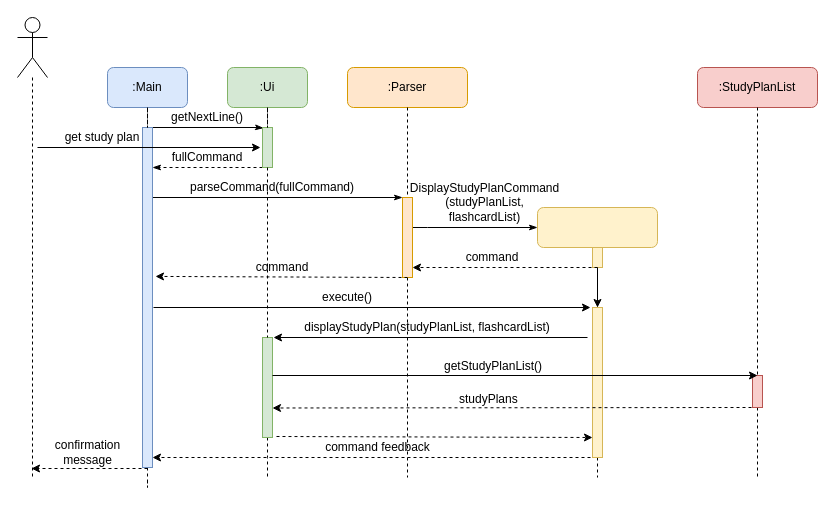
Image size: 835x506. Some labels were removed from this diagram. Here are the shapes that lost their labels. From the top down, the centre of each, then its label:
At [32,47]: "Actor".
At [597,227]: ": DisplayStudyPlan Command".
